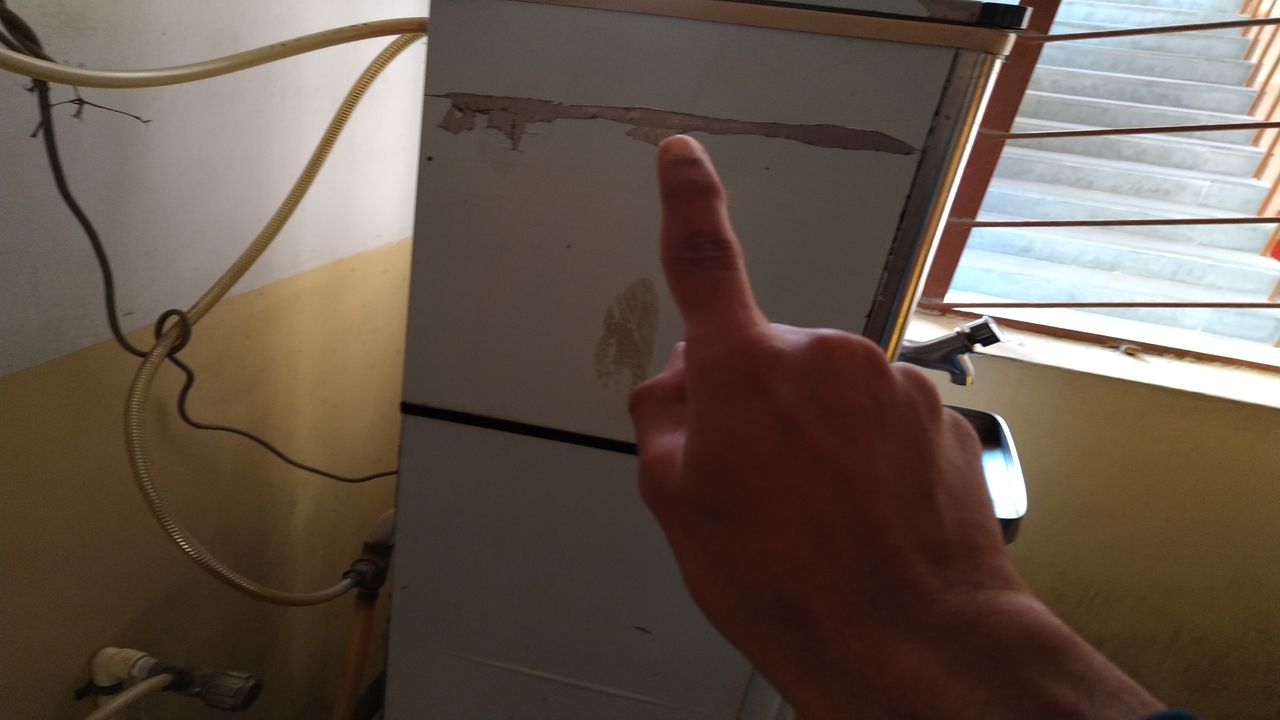fingertip: (650, 128, 722, 186)
